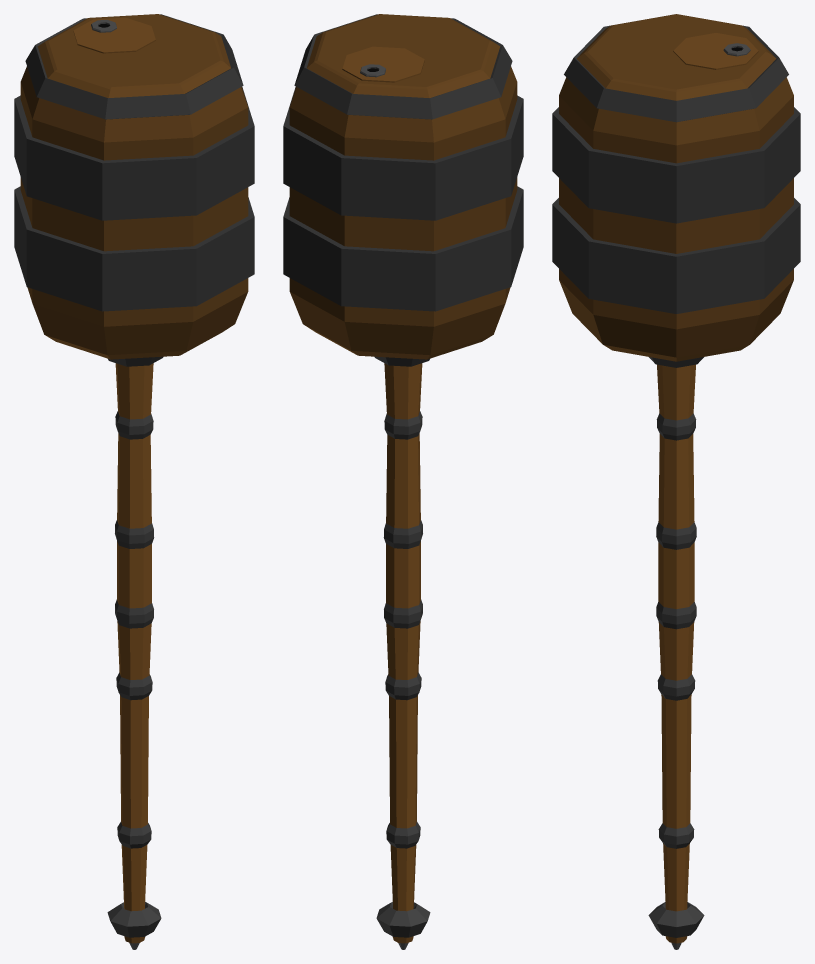
Rendered from Bammer.fbx.
3 renders of one model, left to right at view 1: azimuth 30°, elevation 25°; view 2: azimuth 150°, elevation 25°; view 3: azimuth 270°, elevation 25°, orthographic.
Visible parts, largest first — view 1: Bammer; view 2: Bammer; view 3: Bammer.
Part boxes in pixels (x1,y1,x2,y2): Bammer: (14,14,254,949); Bammer: (283,14,523,949); Bammer: (552,14,800,949).
Bounding box in the file's own units: 47.29 × 189 × 47.29.
